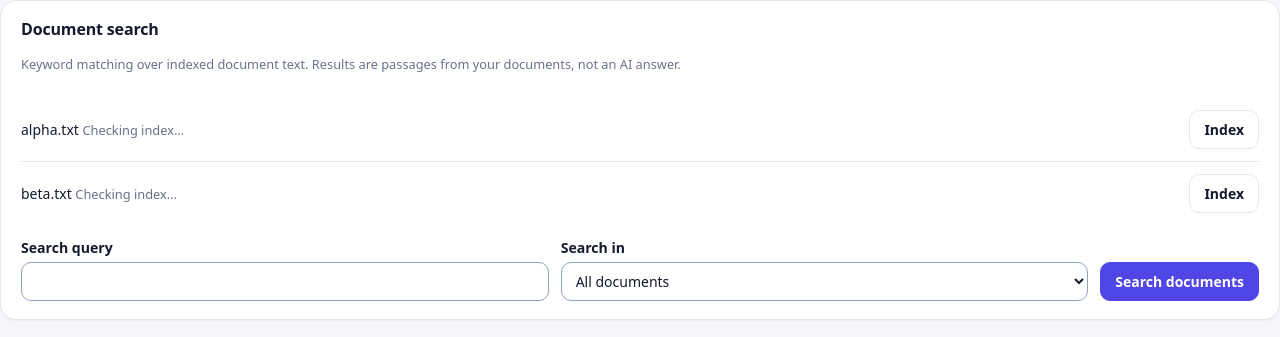
Test: DocumentSearch › indexes a document and updates its status
Click the button with aria-label "Index alpha.txt": [1224, 130] box [1189,110,1259,149]
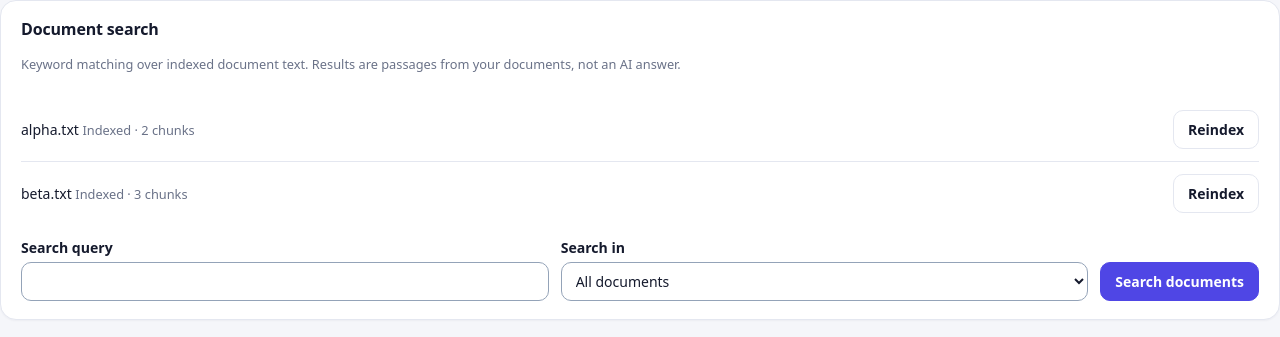
Result: the text with test id "index-state-a-id" reads "Indexed · 2 chunks" at [82,121,195,139]
